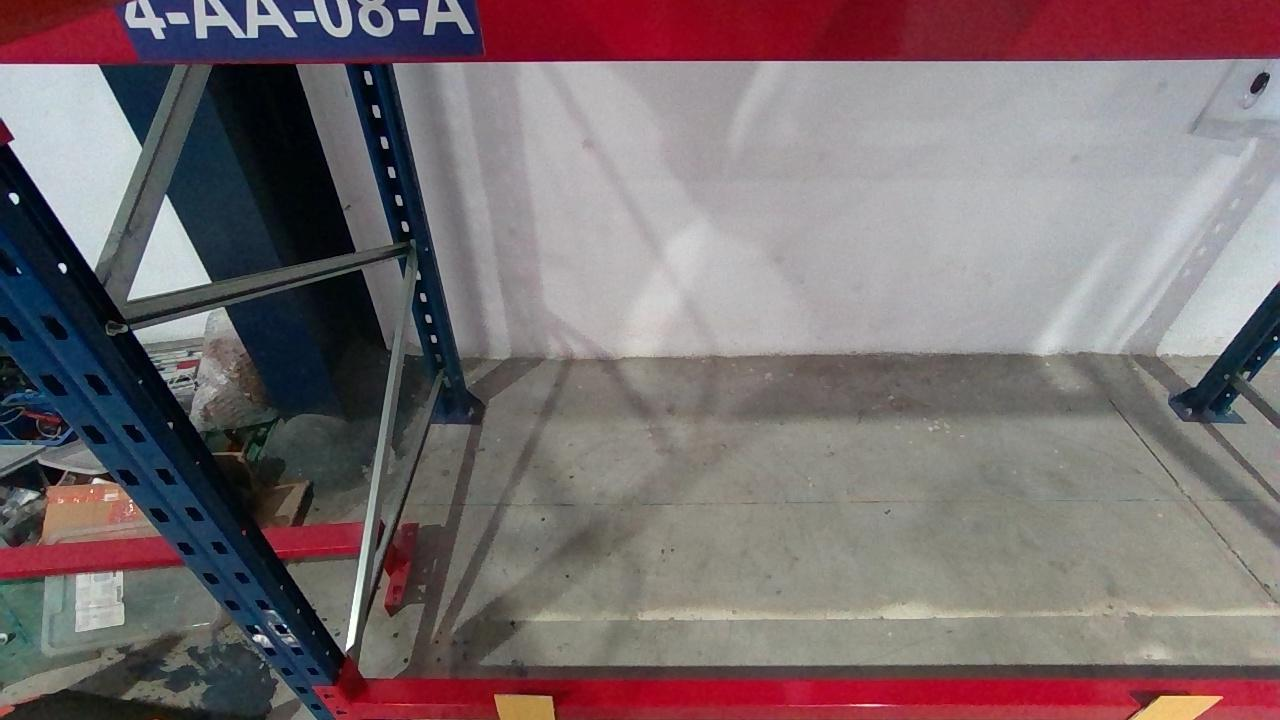h_rack: (0, 0, 1279, 65), (361, 680, 1280, 719)
orange_strip: (1131, 693, 1221, 719), (492, 693, 554, 719)
